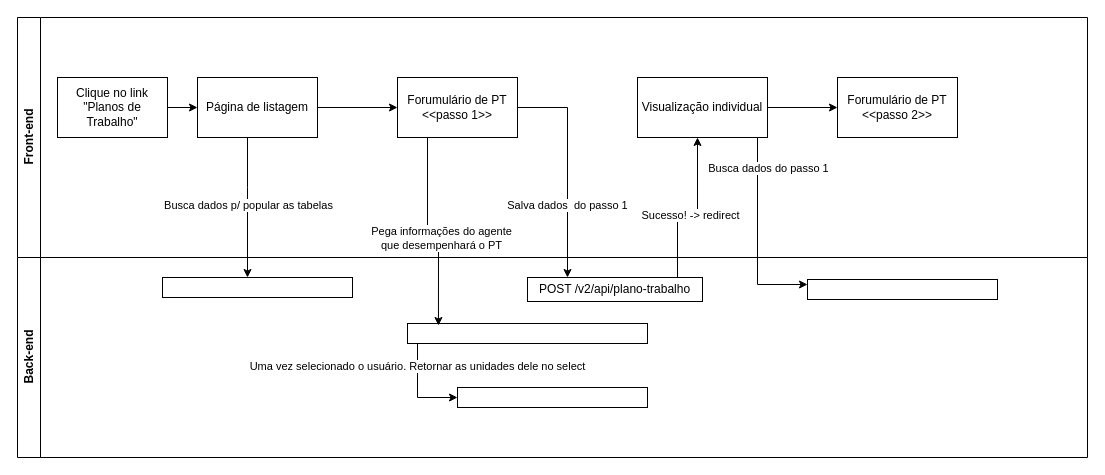
This 1105x475 diagram has some shape labels left out. The shapes that lost their labels are listed below. From the top down, each one's centre as x and y in pixels, then its label:
At [257,287]: "GET /v2/api/plano-trabalho".
At [902,289]: "GET /v2/api/plano-trabalho /:id".
At [527,333]: "GET /v2/api/usuario?nomeOrMatricula=".
At [552,397]: "GET /v2/api/unidade /:usuario_id".
